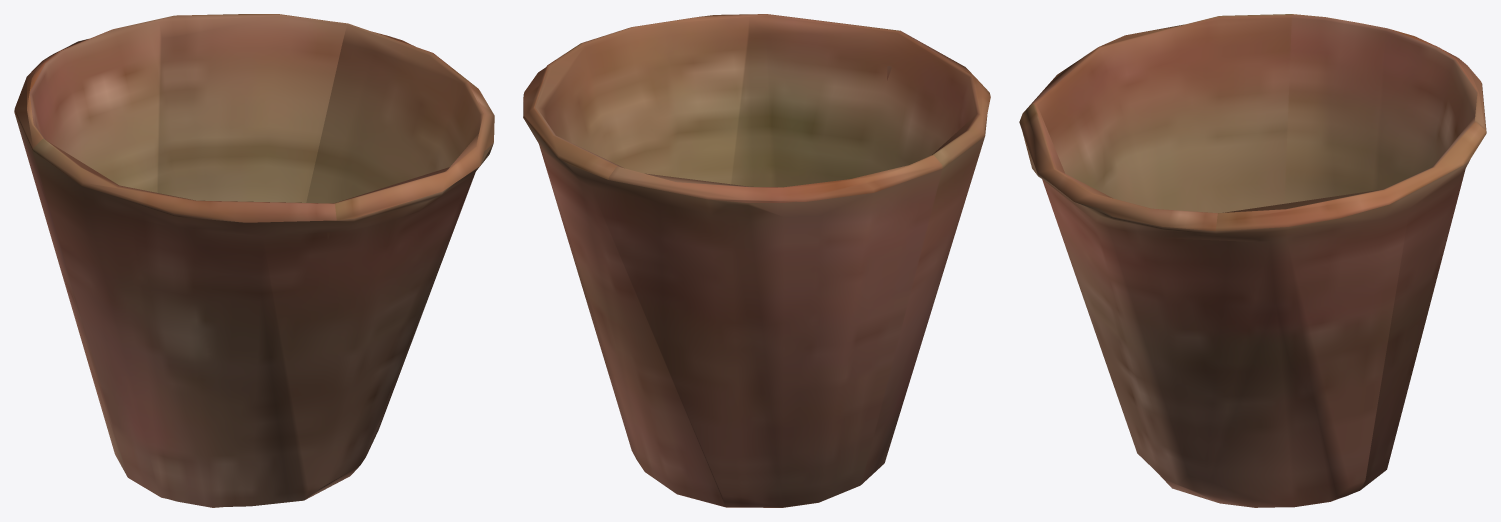
The model's file is planter-pot-clay.glb.
3 renders of one model, left to right at view 1: azimuth 30°, elevation 25°; view 2: azimuth 150°, elevation 25°; view 3: azimuth 270°, elevation 25°, orthographic.
Visible parts, largest first — view 1: planter_pot_clay; view 2: planter_pot_clay; view 3: planter_pot_clay.
Part boxes in pixels (x1=…): planter_pot_clay: x1=14, y1=14, x2=494, y2=507; planter_pot_clay: x1=523, y1=14, x2=990, y2=507; planter_pot_clay: x1=1019, y1=14, x2=1486, y2=507.
Bounding box in the file's own units: 0.2637 × 0.2208 × 0.2611.
Materials: 1 (1 with a texture image).
